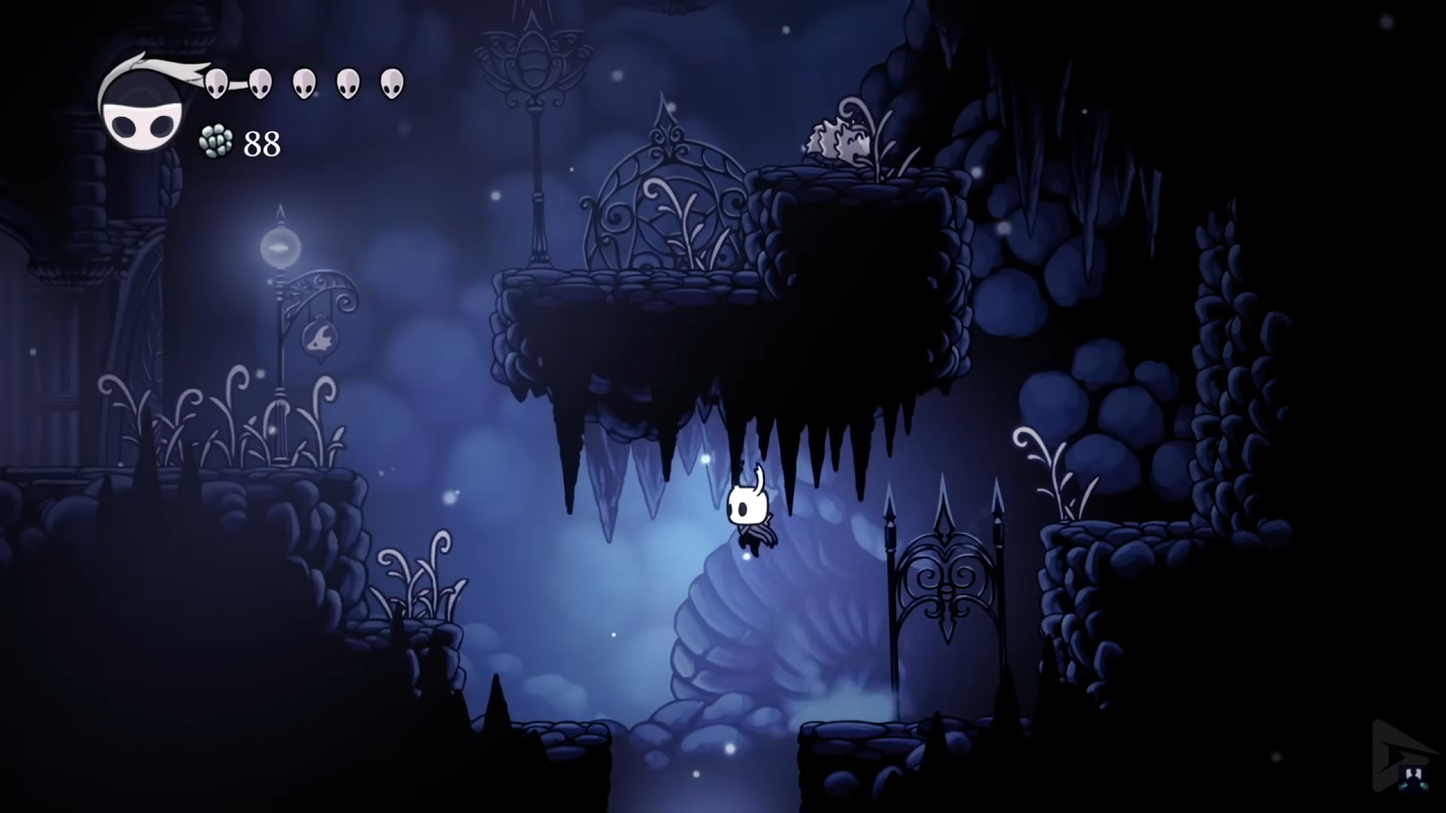HK: (715, 463, 781, 557)
